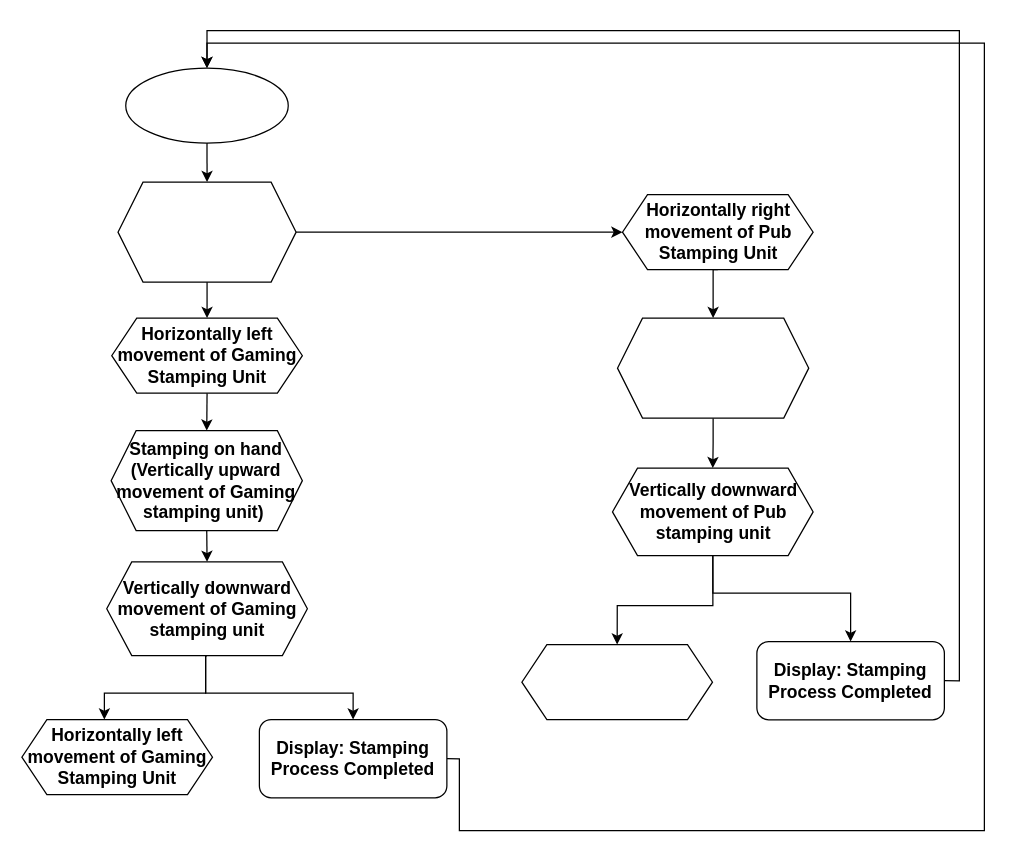
The diagram is 1016 pixels wide and 863 high, and some of its shapes have lost their labels. Each missing label, with the centre of its shape:
"Horizontally left movement of Pub Stamping Unit" goes at pixel 616 681.
"Read the Zone selected by the user" goes at pixel 206 231.
"Stamping on hand (Vertically upward movement of Pub stamping unit)" goes at pixel 712 367.
"Start" goes at pixel 206 105.
